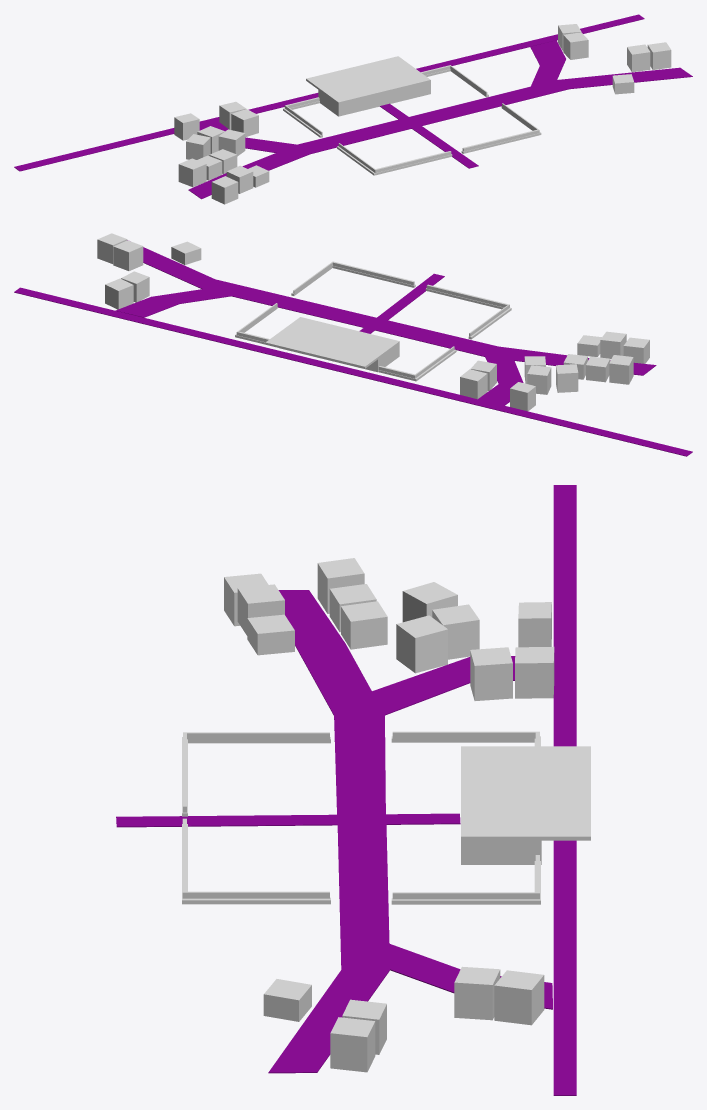
File: Zona_Comboio.fbx
3 views of the same model, one above another, from view 1: azimuth 30°, elevation 25°; view 2: azimuth 150°, elevation 25°; view 3: azimuth 270°, elevation 25° (orthographic). The views are drawn at different scales.
Parts seen in each view (by area): view 1: Cube.313, Cube.312, Cube.310, Cube.311, Cube.308, Cube.309, Predio_1.137, Predio_1.144, Predio_1.145, Predio_1.142, Predio_1.148, Predio_1.133 (+10 smaller); view 2: Cube.313, Cube.310, Cube.312, Cube.311, Cube.308, Cube.309, Predio_1.148, Predio_1.146, Predio_1.143, Predio_1.137, Predio_1.141, Predio_1.134 (+10 smaller); view 3: Cube.313, Cube.312, Cube.310, Cube.311, Cube.309, Predio_1.133, Predio_1.146, Predio_1.147, Cube.308, Predio_1.142, Predio_1.145, Predio_1.143 (+11 smaller).
Part boxes in pixels (x1,y1,x2,y2): Cube.313: [188, 40, 692, 199]; Cube.312: [306, 56, 430, 116]; Cube.310: [14, 14, 644, 171]; Cube.311: [283, 65, 488, 137]; Cube.308: [337, 143, 452, 175]; Cube.309: [461, 103, 541, 153]; Predio_1.137: [178, 158, 206, 187]; Predio_1.144: [211, 176, 238, 204]; Predio_1.145: [563, 32, 588, 59]; Predio_1.142: [231, 109, 258, 137]; Predio_1.148: [627, 44, 650, 72]; Predio_1.133: [218, 129, 245, 156]; Cube.313: [115, 240, 656, 405]; Cube.310: [14, 287, 692, 456]; Cube.312: [265, 317, 399, 372]; Cube.311: [235, 303, 456, 381]; Cube.308: [425, 284, 511, 339]; Cube.309: [291, 261, 415, 295]; Predio_1.148: [113, 240, 143, 270]; Predio_1.146: [105, 278, 133, 309]; Predio_1.143: [460, 369, 487, 399]; Predio_1.137: [609, 355, 633, 384]; Predio_1.141: [510, 382, 535, 411]; Predio_1.134: [556, 364, 578, 392]; Cube.313: [116, 590, 555, 1073]; Cube.312: [461, 746, 590, 864]; Cube.310: [553, 485, 576, 1095]; Cube.311: [391, 731, 540, 904]; Cube.309: [182, 818, 330, 904]; Predio_1.133: [396, 615, 447, 673]; Predio_1.146: [494, 970, 544, 1025]; Predio_1.147: [330, 1017, 375, 1072]; Cube.308: [182, 732, 330, 816]; Predio_1.142: [470, 647, 512, 700]; Predio_1.145: [454, 966, 500, 1020]; Predio_1.143: [515, 646, 554, 698].
Size of the model in its own units: 69751 by 2254 by 22941.
